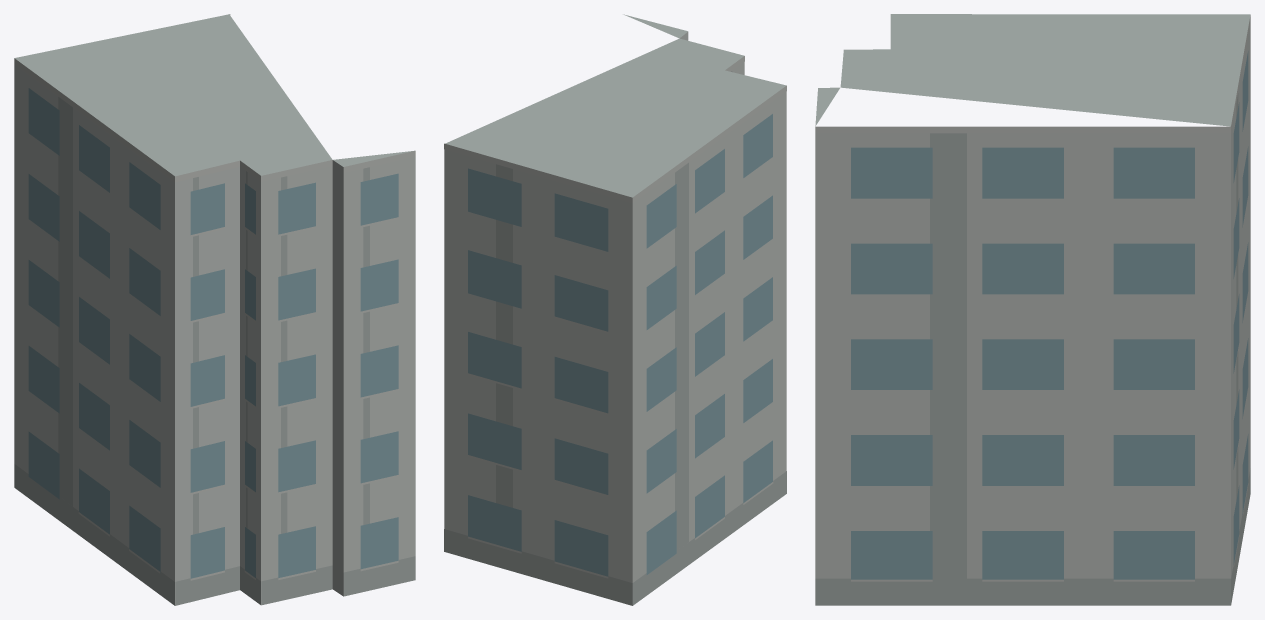
Rendered from survey-upis-33047435.glb.
The picture shows the model from 3 angles, left to right: view 1: azimuth 30°, elevation 25°; view 2: azimuth 150°, elevation 25°; view 3: azimuth 270°, elevation 25°; orthographic projection. The views are drawn at different scales.
Parts seen in each view (by area): view 1: survey-upis-33047435.tmp; view 2: survey-upis-33047435.tmp; view 3: survey-upis-33047435.tmp.
Part boxes in pixels (x1,y1,x2,y2): survey-upis-33047435.tmp: [14, 14, 415, 605]; survey-upis-33047435.tmp: [444, 14, 786, 605]; survey-upis-33047435.tmp: [815, 14, 1250, 605].
Size of the model in its own units: 8.69 by 17.15 by 14.14.
